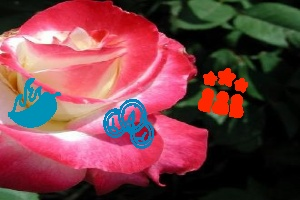三个圆: (103, 99, 153, 149)
三朵花: (198, 67, 246, 117)
树叶: (7, 78, 61, 127)
